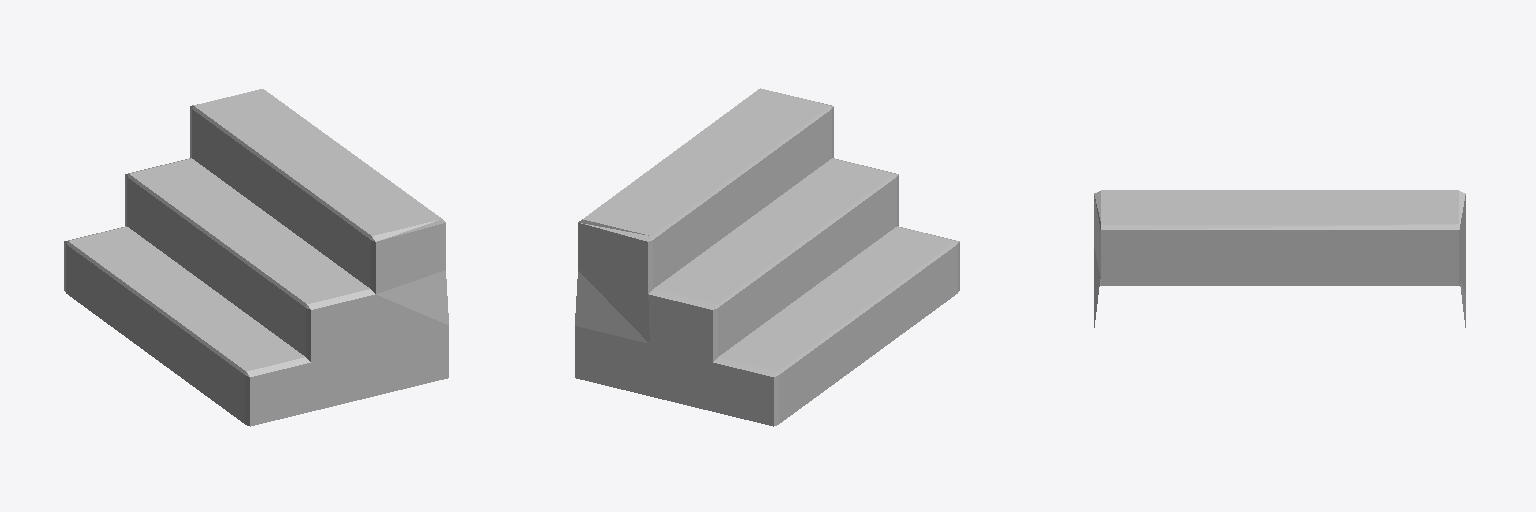
3 views of the same model, side by side, from view 1: azimuth 30°, elevation 25°; view 2: azimuth 150°, elevation 25°; view 3: azimuth 270°, elevation 25° (orthographic).
Parts seen in each view (by area): view 1: Stairs; view 2: Stairs; view 3: Stairs.
Part boxes in pixels (x1,y1,x2,y2): Stairs: (64, 89, 448, 426); Stairs: (575, 88, 959, 426); Stairs: (1094, 190, 1465, 327).
Size of the model in its own units: 4.26 by 3.19 by 6.83.